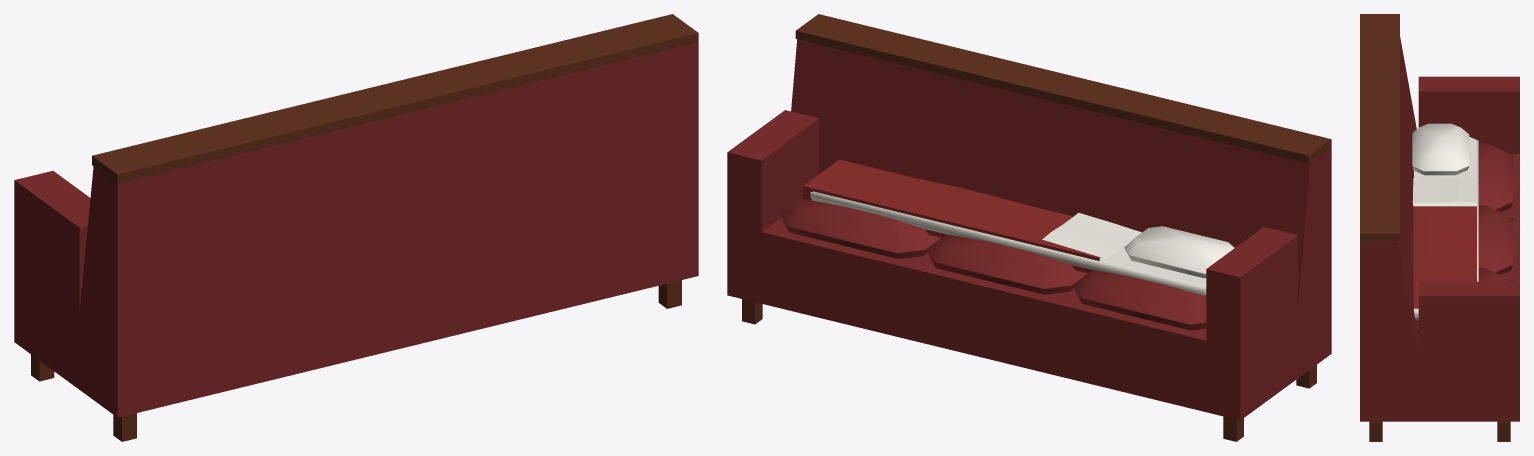
3 renders of one model, left to right at view 1: azimuth 30°, elevation 25°; view 2: azimuth 150°, elevation 25°; view 3: azimuth 270°, elevation 25°, orthographic. The views are drawn at different scales.
Parts seen in each view (by area): view 1: parametric-variant-sofa-2nd-8a074b66903ce07bb955; view 2: parametric-variant-sofa-2nd-8a074b66903ce07bb955; view 3: parametric-variant-sofa-2nd-8a074b66903ce07bb955.
Part boxes in pixels (box(x1,y1,x2,y2)): parametric-variant-sofa-2nd-8a074b66903ce07bb955: box(14, 14, 698, 441); parametric-variant-sofa-2nd-8a074b66903ce07bb955: box(727, 14, 1331, 441); parametric-variant-sofa-2nd-8a074b66903ce07bb955: box(1360, 14, 1519, 441).
Bounding box in the file's own units: 1.95 × 0.88 × 0.6.
